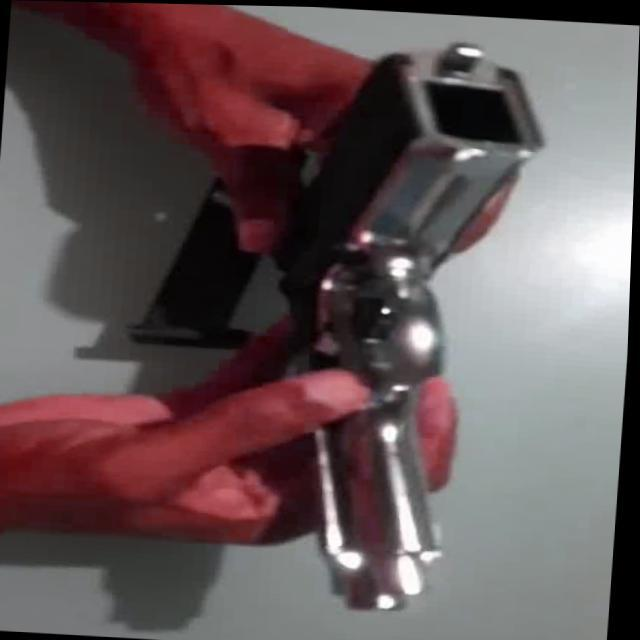weapon: (113, 21, 554, 616)
